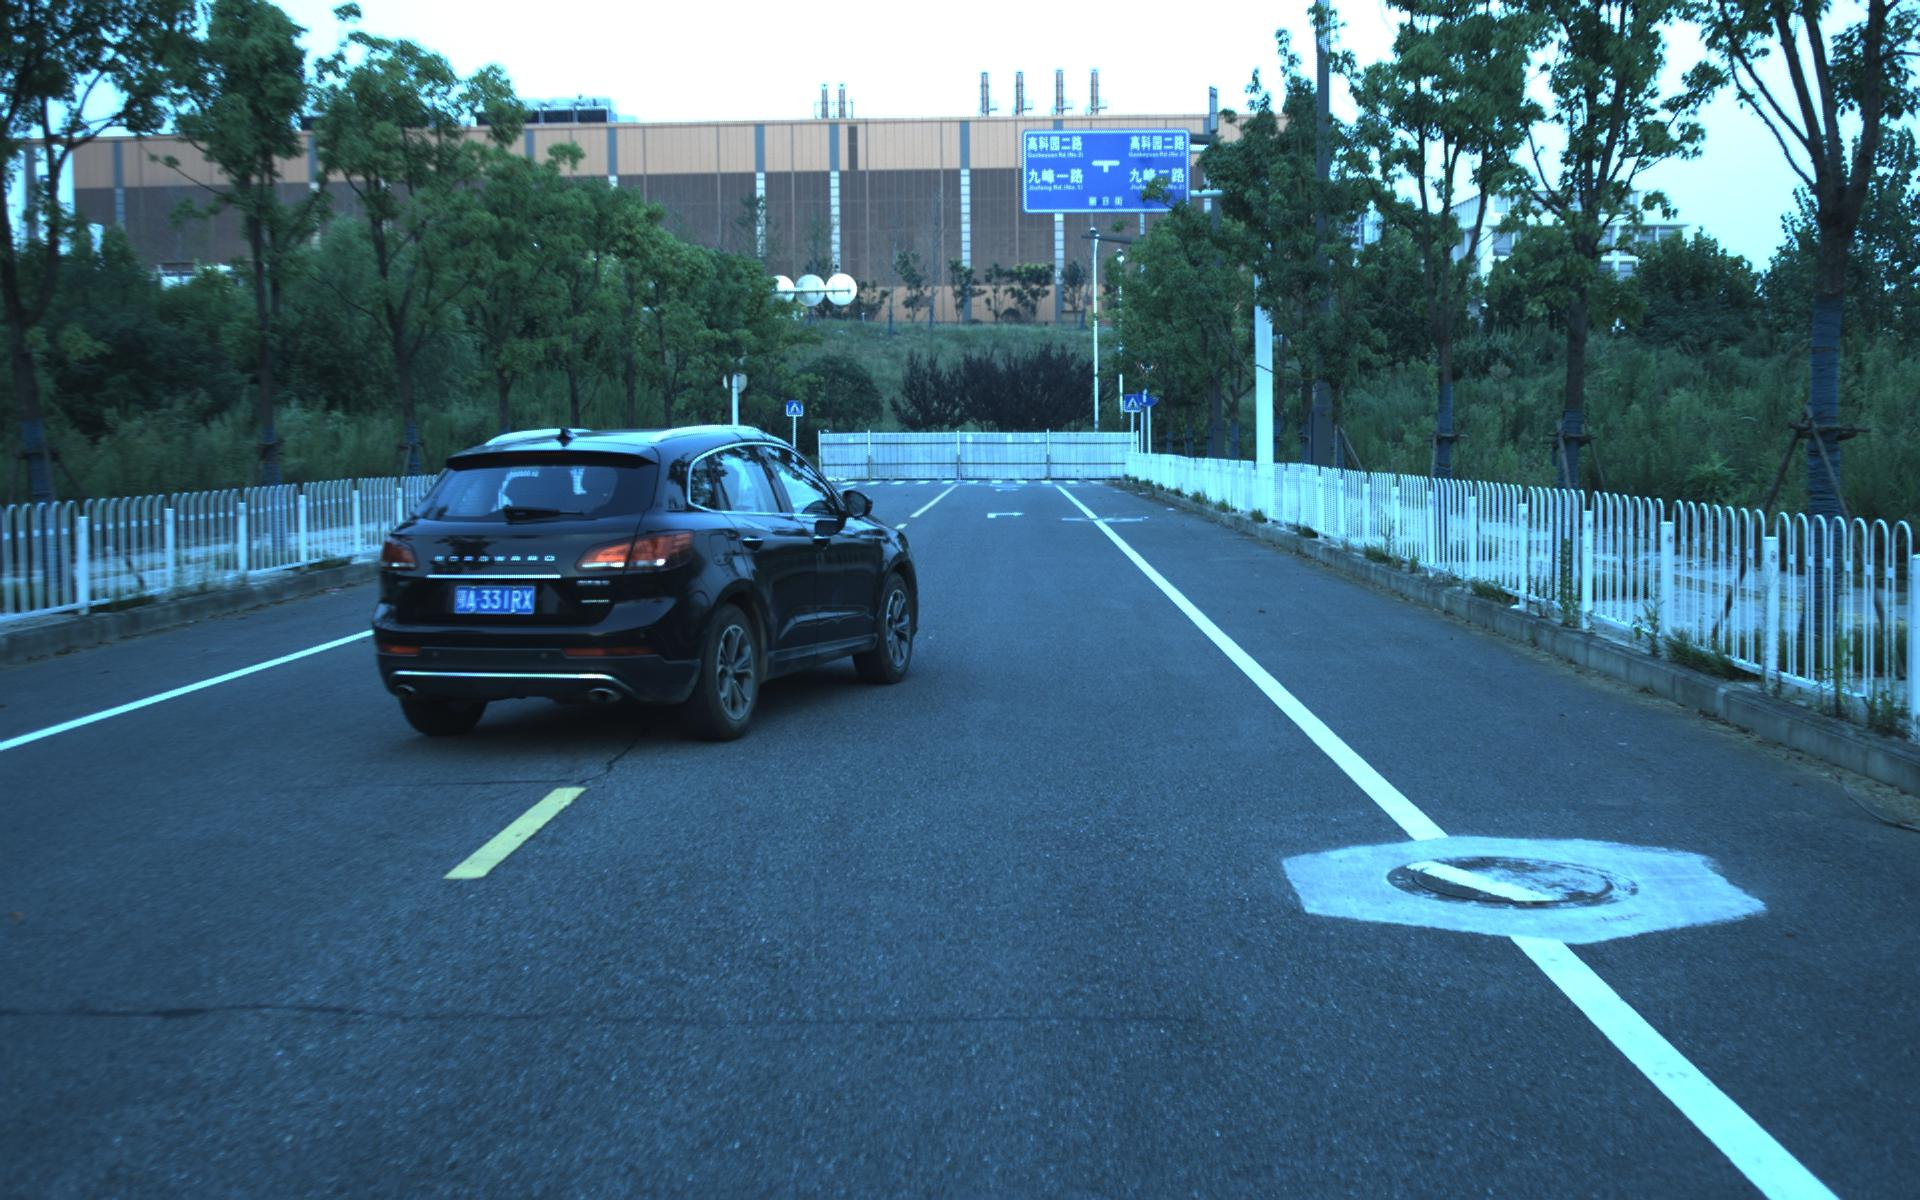Car: (346, 412, 921, 759)
